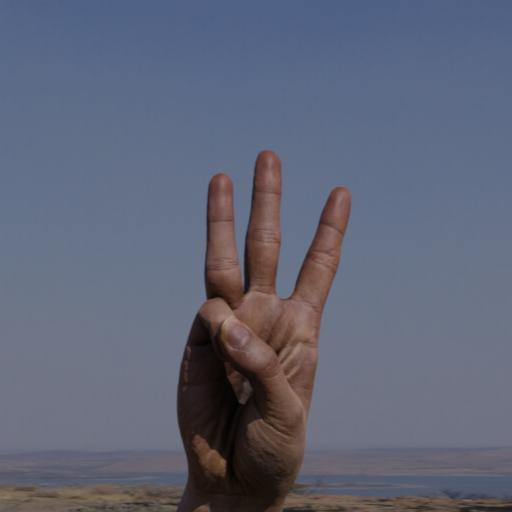W: (169, 132, 363, 500)
